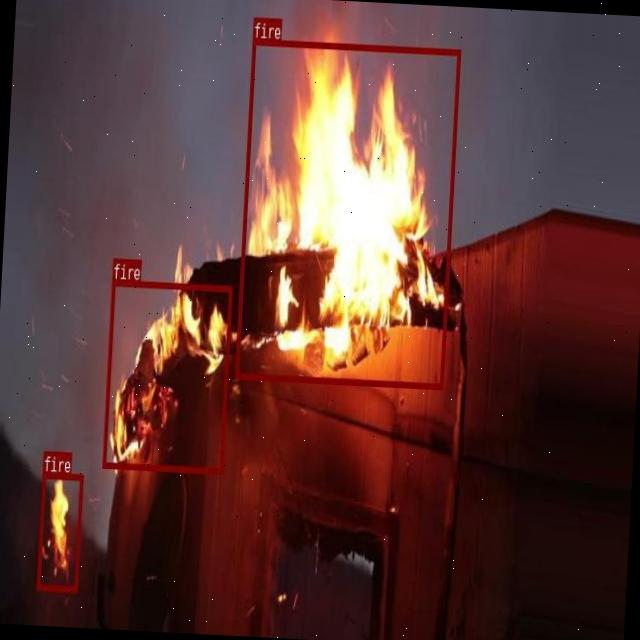fire: (234, 38, 460, 388), (102, 279, 232, 473), (36, 472, 82, 590)
